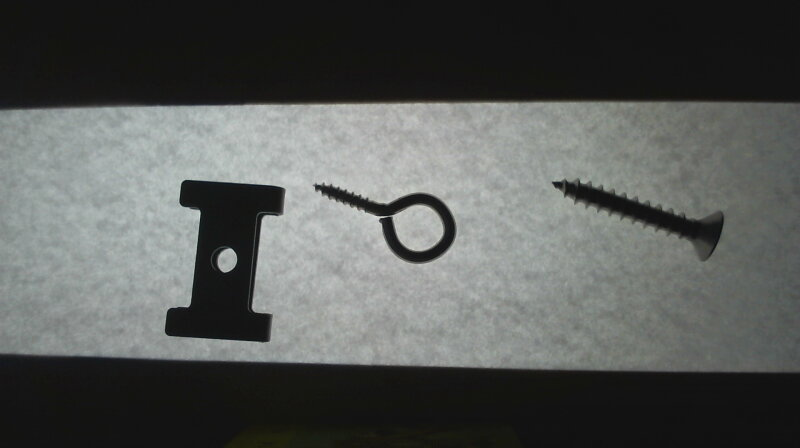O001: (310, 178, 461, 264)
O002: (159, 172, 287, 344)
S001: (547, 173, 726, 263)
